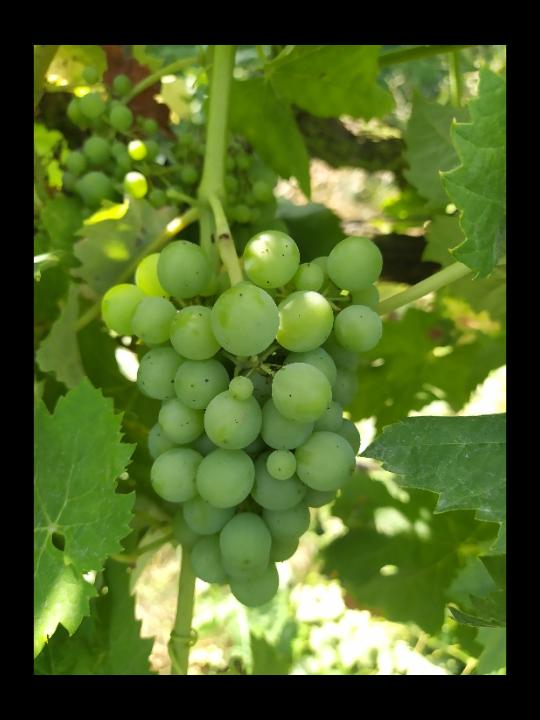grape: (99, 229, 385, 610)
